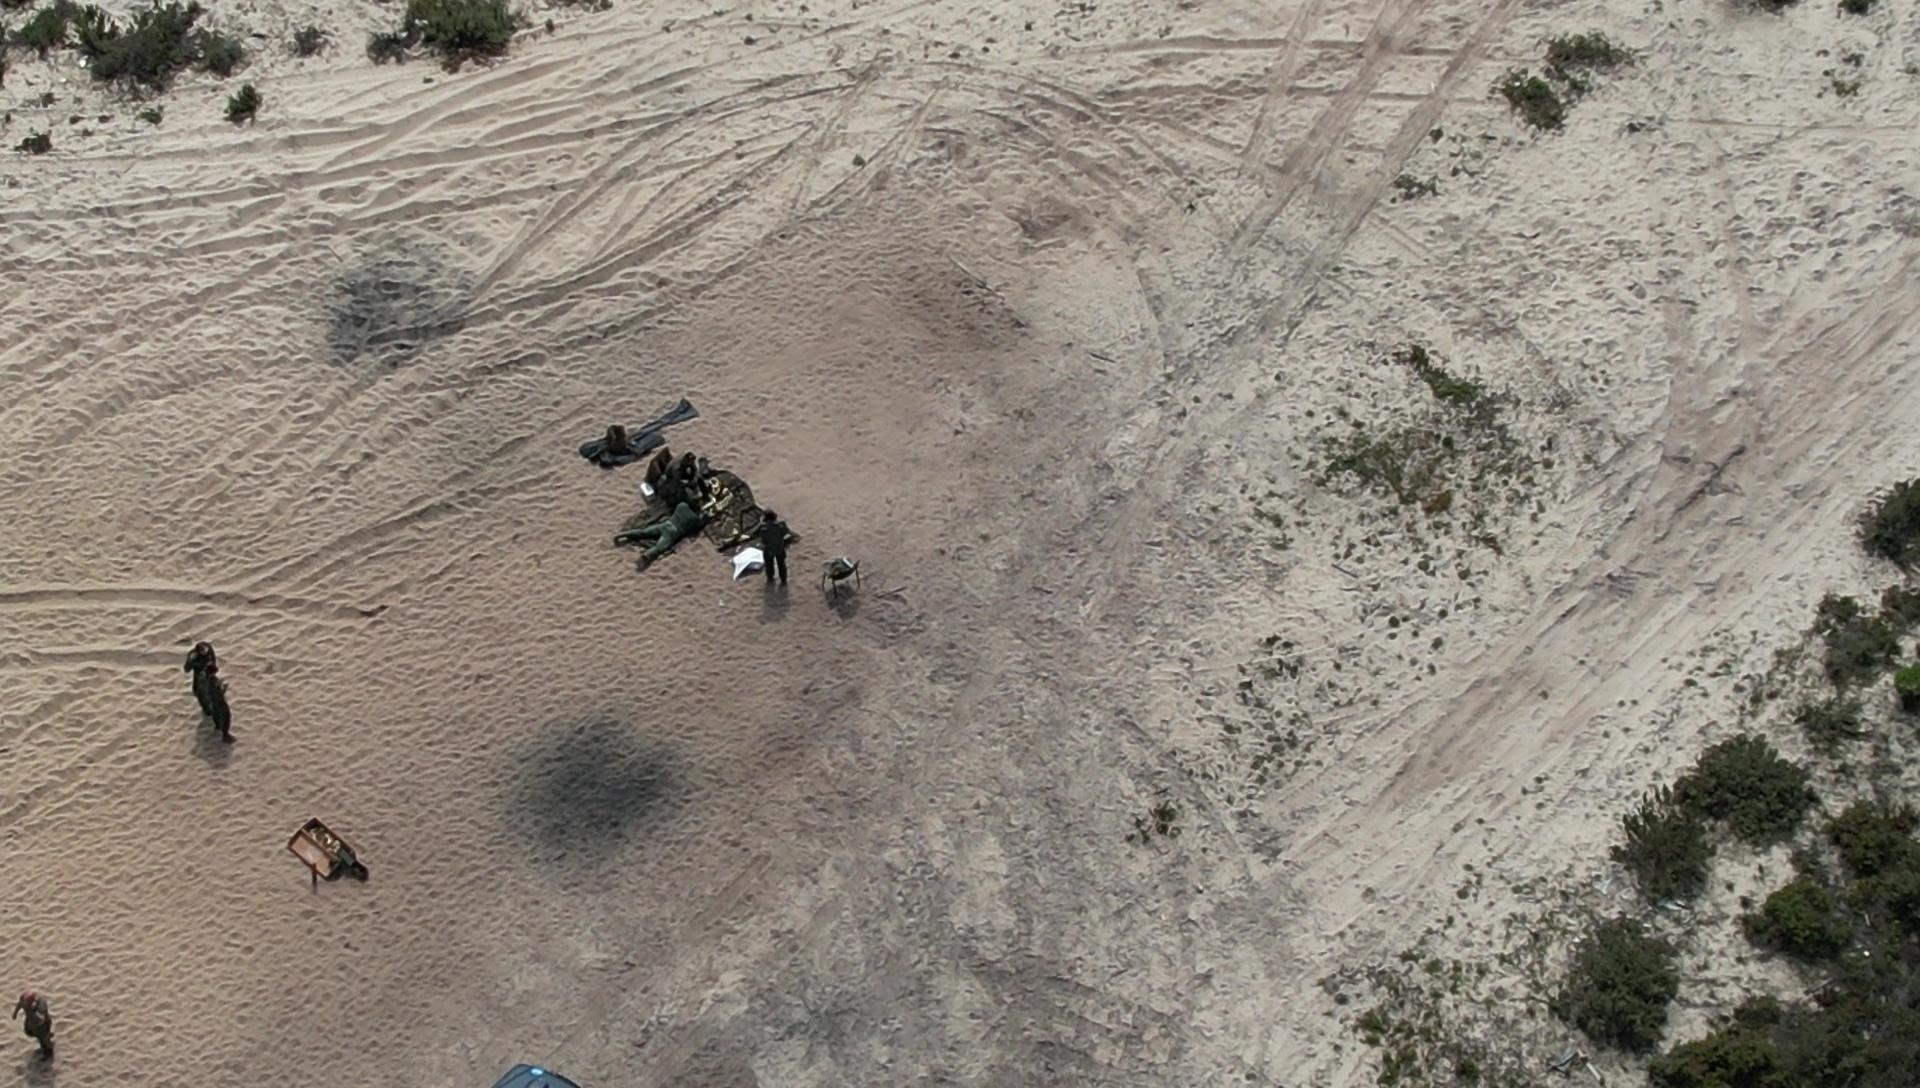Soldier: (597, 485, 721, 568), (186, 653, 247, 749), (5, 976, 67, 1066), (745, 501, 800, 597), (647, 444, 705, 499)
